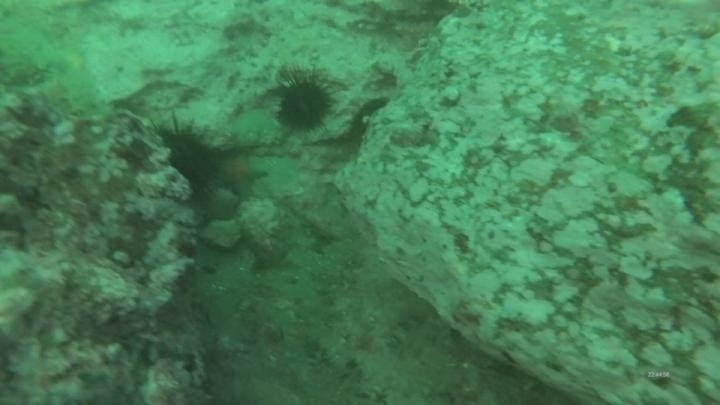echinus: (144, 115, 224, 203), (271, 69, 338, 136)
holothurian: (41, 64, 118, 127)
starfish: (213, 150, 270, 200)
